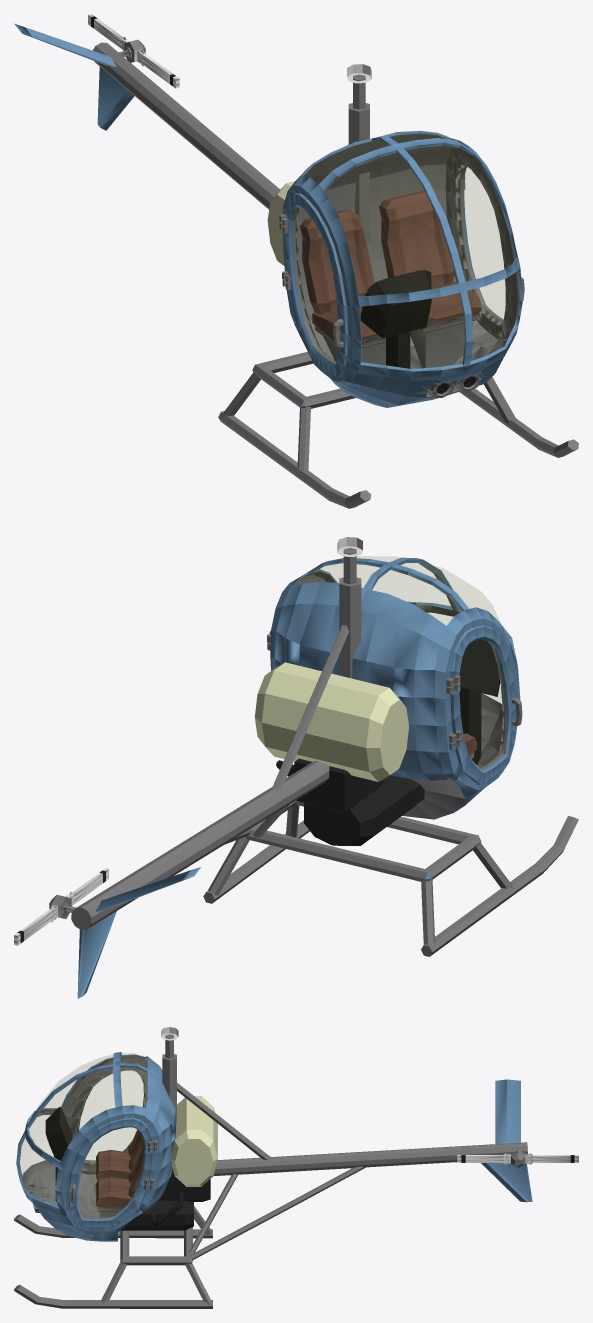
File: aircraft_13.glb
3 views of the same model, one above another, from view 1: azimuth 30°, elevation 25°; view 2: azimuth 150°, elevation 25°; view 3: azimuth 270°, elevation 25° (orthographic). The views are drawn at different scales.
Visible parts, largest first — view 1: fuselage, seats, landing struts, tail boom, door right, instrument panel, door left, rotor mast, tail rotor, stabilizer, Engine, stabilizer.001; view 2: fuselage, Engine, landing struts, tail boom, door right, glass.001, instrument panel, rotor mast, struts 3, stabilizer, tail rotor, stabilizer.001; view 3: fuselage, Engine, landing struts, tail boom, door left, seats, glass.001, stabilizer.001, struts 1, door right, stabilizer, tail rotor (+4 smaller).
Part boxes in pixels (x1=…): fuselage: x1=279, y1=130, x2=522, y2=407; seats: x1=300, y1=190, x2=481, y2=368; landing struts: x1=218, y1=351, x2=578, y2=508; tail boom: x1=92, y1=42, x2=280, y2=209; door right: x1=282, y1=193, x2=348, y2=378; instrument panel: x1=360, y1=270, x2=431, y2=368; door left: x1=451, y1=154, x2=524, y2=338; rotor mast: x1=347, y1=64, x2=371, y2=242; tail rotor: x1=88, y1=14, x2=179, y2=88; stabilizer: x1=97, y1=66, x2=134, y2=130; Engine: x1=267, y1=181, x2=294, y2=265; stabilizer.001: x1=14, y1=23, x2=116, y2=67; fuselage: x1=267, y1=557, x2=520, y2=819; Engine: x1=254, y1=662, x2=424, y2=845; landing struts: x1=203, y1=800, x2=578, y2=956; tail boom: x1=71, y1=761, x2=329, y2=929; door right: x1=450, y1=625, x2=522, y2=784; glass.001: x1=315, y1=556, x2=498, y2=624; instrument panel: x1=459, y1=639, x2=500, y2=764; rotor mast: x1=337, y1=537, x2=362, y2=678; struts 3: x1=272, y1=624, x2=348, y2=790; stabilizer: x1=77, y1=911, x2=116, y2=998; tail rotor: x1=14, y1=868, x2=108, y2=945; stabilizer.001: x1=95, y1=867, x2=200, y2=912; fuselage: x1=16, y1=1052, x2=176, y2=1241; Engine: x1=120, y1=1096, x2=217, y2=1230; landing struts: x1=14, y1=1206, x2=212, y2=1308; tail boom: x1=213, y1=1142, x2=527, y2=1176; door left: x1=68, y1=1118, x2=152, y2=1226; seats: x1=96, y1=1107, x2=145, y2=1217; glass.001: x1=20, y1=1053, x2=145, y2=1176; stabilizer.001: x1=495, y1=1079, x2=520, y2=1143; struts 1: x1=188, y1=1166, x2=365, y2=1259; door right: x1=70, y1=1063, x2=146, y2=1171; stabilizer: x1=481, y1=1163, x2=532, y2=1202; tail rotor: x1=457, y1=1150, x2=578, y2=1167.
Size of the model in its own units: 1.97 by 2.98 by 6.3.
